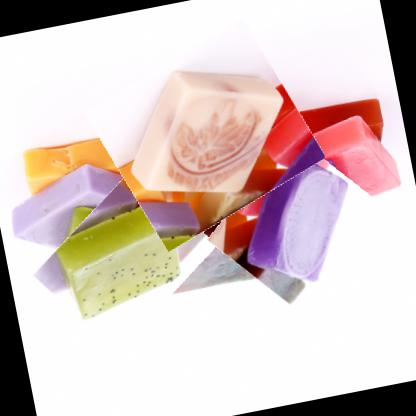soap: (86, 22, 324, 246), (29, 172, 219, 348), (204, 136, 386, 308)
